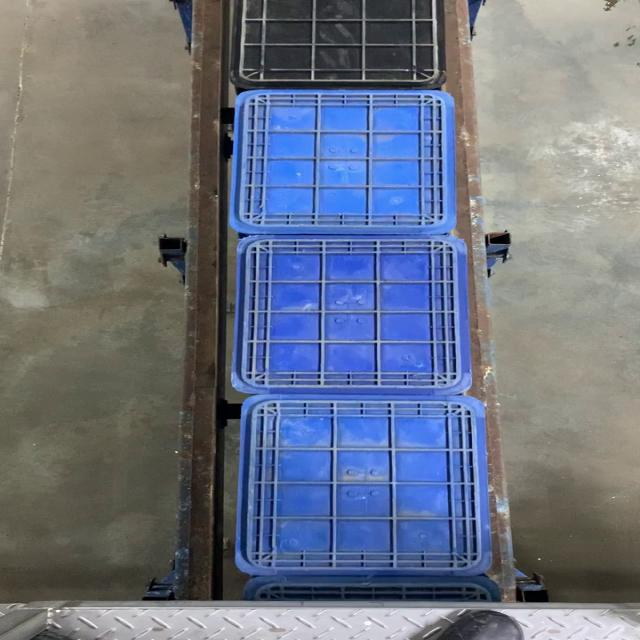Box: (231, 395, 496, 575), (229, 236, 471, 395), (228, 90, 458, 234)
